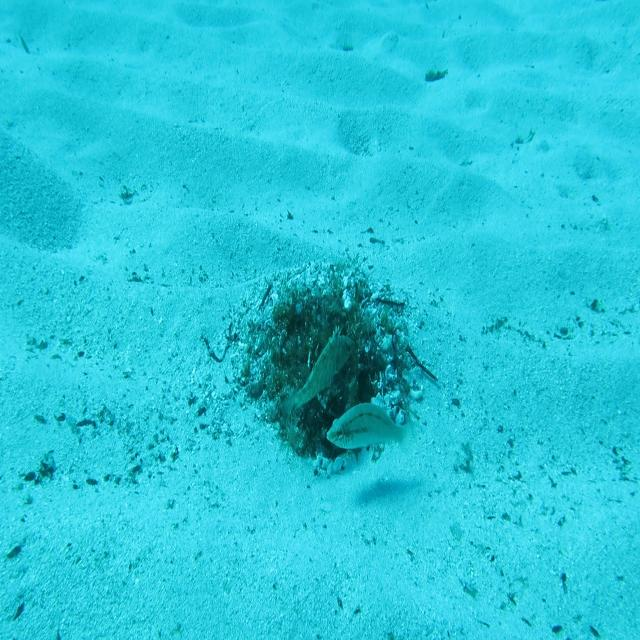ROLL: (277, 321, 358, 422)
core_nest: (300, 306, 345, 357)
female: (323, 402, 423, 460)
nest: (215, 243, 430, 498)
vegetation: (422, 67, 451, 84)
